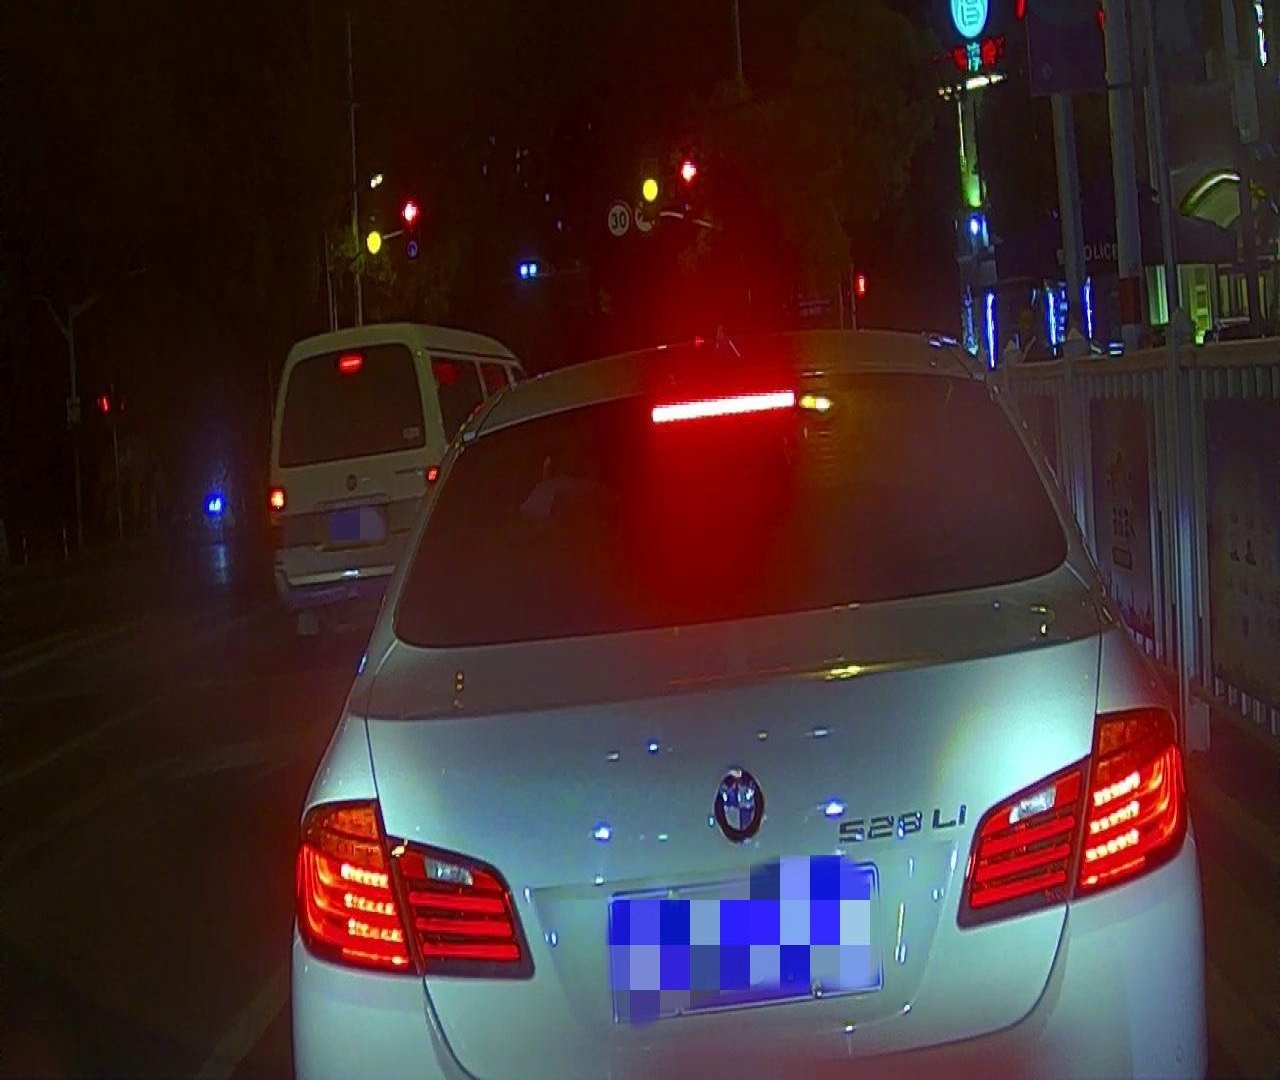red: (675, 151, 701, 187), (398, 195, 422, 226)
yellow: (637, 172, 665, 208), (361, 222, 386, 258)
